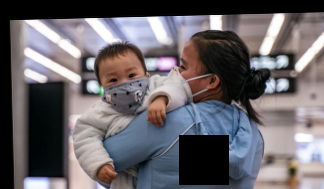with_mask: (100, 65, 150, 115), (165, 55, 193, 106)
